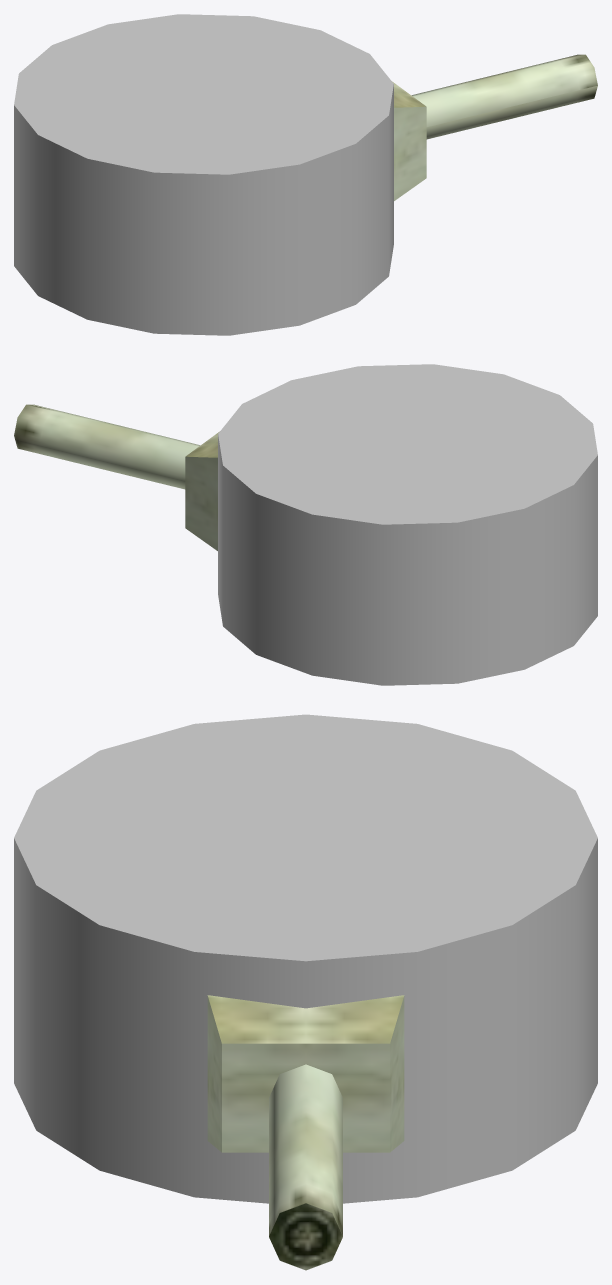
Rendered from turret.obj.
3 views of the same model, one above another, from view 1: azimuth 30°, elevation 25°; view 2: azimuth 150°, elevation 25°; view 3: azimuth 270°, elevation 25° (orthographic). The views are drawn at different scales.
Visible parts, largest first — view 1: Cylinder, Cylinder.001, Cube.007; view 2: Cylinder, Cylinder.001, Cube.007; view 3: Cylinder, Cube.007, Cylinder.001.
Part boxes in pixels (x1,y1,x2,y2): Cylinder: (14,14,393,335); Cylinder.001: (411,54,597,139); Cube.007: (392,81,426,200); Cylinder: (218,364,597,685); Cylinder.001: (14,404,200,489); Cube.007: (185,431,219,550); Cylinder: (14,714,597,1203); Cube.007: (207,995,404,1152); Cylinder.001: (269,1064,342,1270).
Bounding box in the file's own units: 2.02 × 0.5675 × 1.22.
